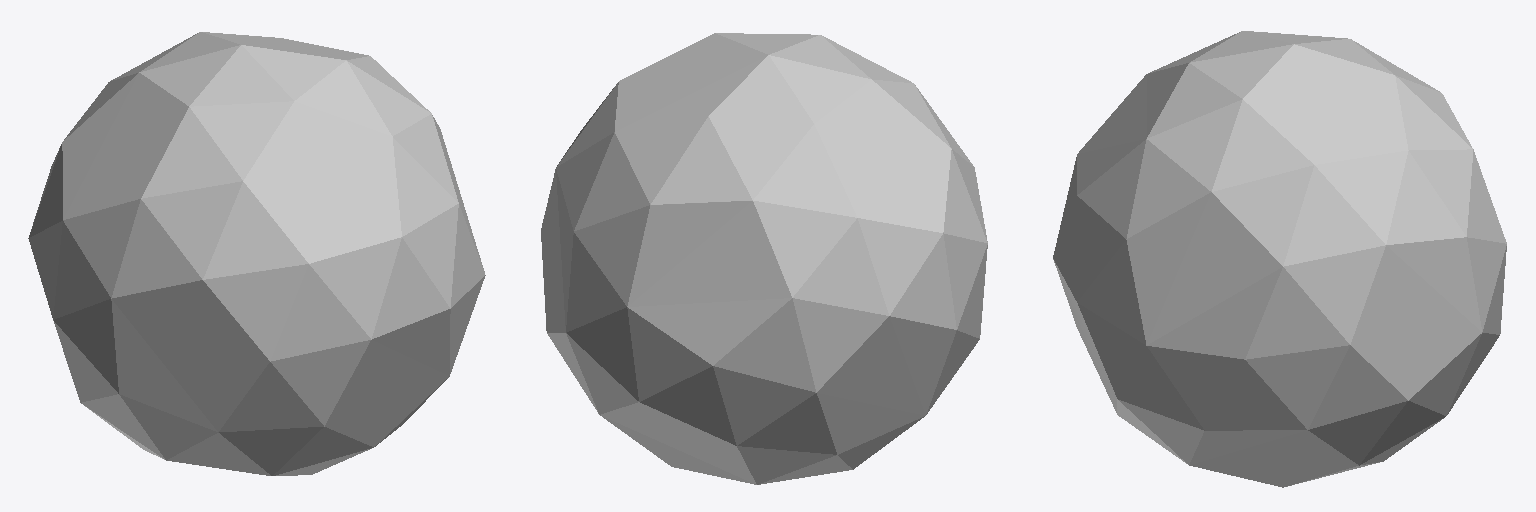
Rendered from snubdode.obj.
3 views of the same model, side by side, from view 1: azimuth 30°, elevation 25°; view 2: azimuth 150°, elevation 25°; view 3: azimuth 270°, elevation 25° (orthographic).
Visible parts, largest first — view 1: snubdode.001; view 2: snubdode.001; view 3: snubdode.001.
Part boxes in pixels (x1,y1,x2,y2): snubdode.001: (28, 32, 485, 475); snubdode.001: (541, 33, 987, 484); snubdode.001: (1053, 31, 1506, 487).
Size of the model in its own units: 2.02 by 2.05 by 2.03.